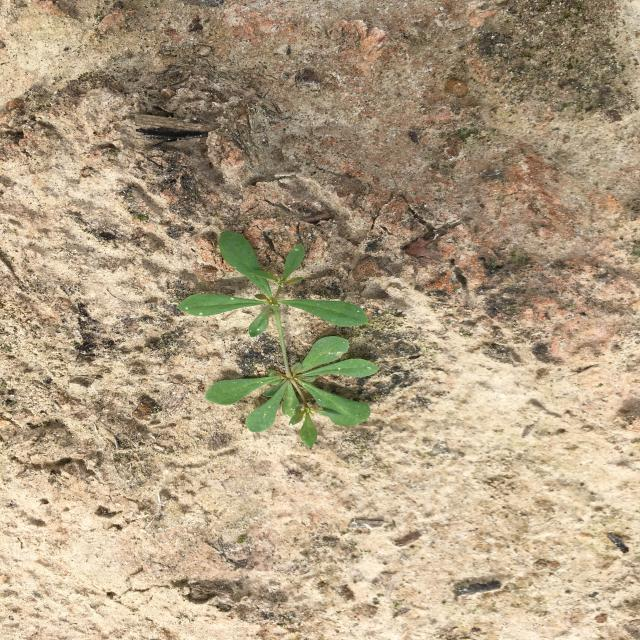Carpetweed: (176, 230, 380, 448)
